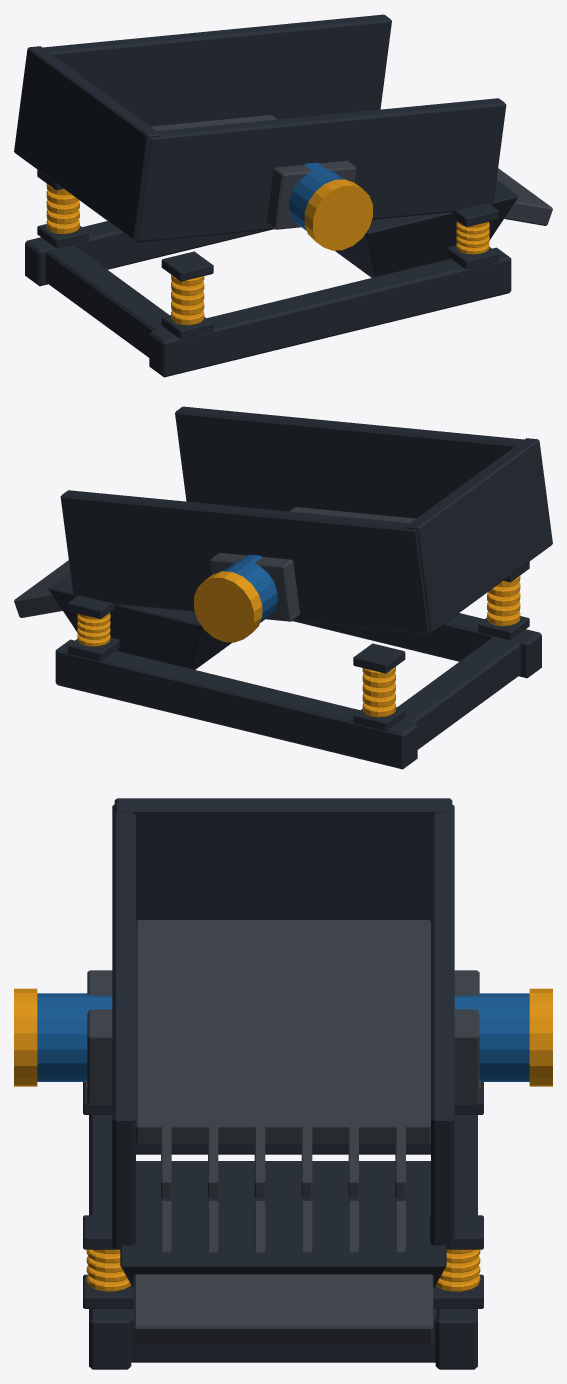
The model's file is vibro_feeder_vf101.glb.
3 views of the same model, one above another, from view 1: azimuth 30°, elevation 25°; view 2: azimuth 150°, elevation 25°; view 3: azimuth 270°, elevation 25° (orthographic). The views are drawn at different scales.
Parts seen in each view (by area): view 1: VF101_BackPlate, VF101_ExciterWeight_L, VF101_ExciterMount_L, VF101_ExciterMotor_L; view 2: VF101_BackPlate, VF101_ExciterWeight_L, VF101_ExciterMount_L, VF101_ExciterMotor_L; view 3: VF101_BackPlate, VF101_ExciterMount_L, VF101_ExciterMotor_L, VF101_ExciterWeight_L.
Part boxes in pixels (x1,y1,x2,y2): VF101_BackPlate: [14, 14, 518, 377]; VF101_ExciterWeight_L: [46, 179, 489, 325]; VF101_ExciterMount_L: [151, 115, 552, 229]; VF101_ExciterMotor_L: [289, 162, 343, 230]; VF101_BackPlate: [48, 406, 552, 769]; VF101_ExciterWeight_L: [77, 571, 520, 717]; VF101_ExciterMount_L: [14, 507, 415, 621]; VF101_ExciterMotor_L: [223, 554, 277, 622]; VF101_BackPlate: [83, 798, 483, 1369]; VF101_ExciterMount_L: [87, 920, 479, 1344]; VF101_ExciterMotor_L: [37, 993, 529, 1081]; VF101_ExciterWeight_L: [14, 988, 552, 1291].
Size of the model in its own units: 2.93 by 1.56 by 2.3.
